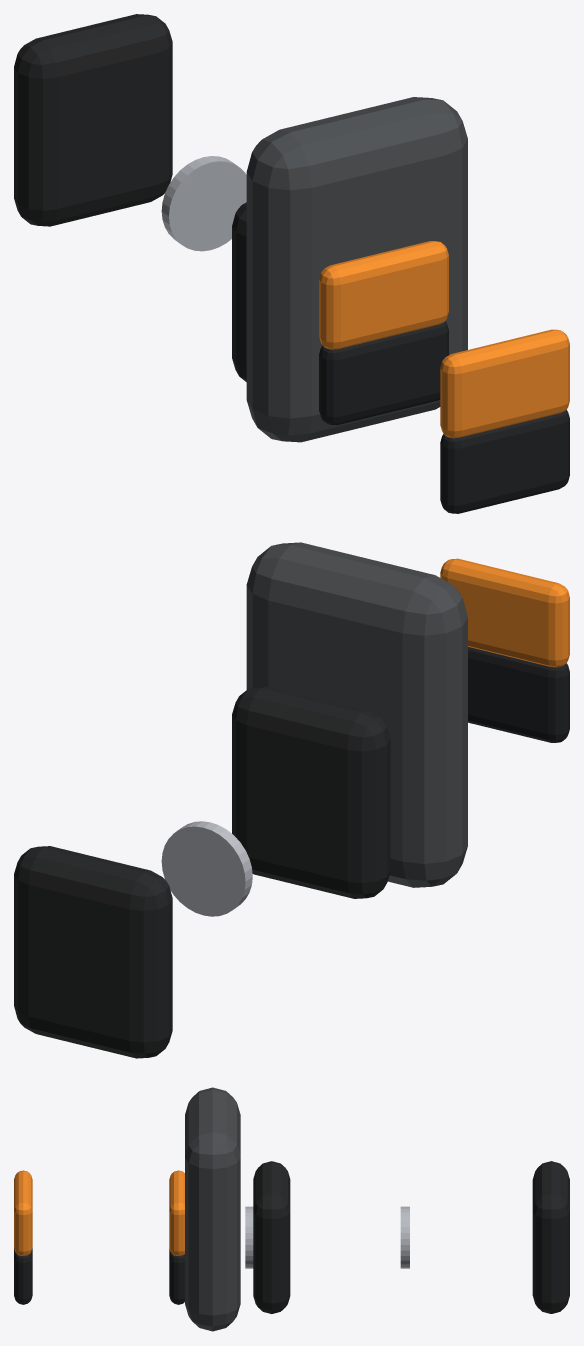
File: zwift-click-v2.glb
The picture shows the model from 3 angles, top to bottom: view 1: azimuth 30°, elevation 25°; view 2: azimuth 150°, elevation 25°; view 3: azimuth 270°, elevation 25°; orthographic projection. The views are drawn at different scales.
Visible parts, largest first — view 1: zwift-click-v2_BODY_EXPLODED, zwift-click-v2_BAR_STRAP_EXPLODED, zwift-click-v2_BODY, zwift-click-v2_UP_BUTTON_EXPLODED, zwift-click-v2_UP_BUTTON, zwift-click-v2_DOWN_BUTTON_EXPLODED, zwift-click-v2_DOWN_BUTTON, zwift-click-v2_CR2032_EXPLODED, zwift-click-v2_BAR_STRAP; view 2: zwift-click-v2_BODY_EXPLODED, zwift-click-v2_BAR_STRAP_EXPLODED, zwift-click-v2_BAR_STRAP, zwift-click-v2_BODY, zwift-click-v2_UP_BUTTON_EXPLODED, zwift-click-v2_DOWN_BUTTON_EXPLODED, zwift-click-v2_CR2032_EXPLODED; view 3: zwift-click-v2_BODY_EXPLODED, zwift-click-v2_BAR_STRAP, zwift-click-v2_BAR_STRAP_EXPLODED, zwift-click-v2_BODY, zwift-click-v2_UP_BUTTON_EXPLODED, zwift-click-v2_UP_BUTTON, zwift-click-v2_DOWN_BUTTON_EXPLODED, zwift-click-v2_DOWN_BUTTON, zwift-click-v2_CR2032_EXPLODED, zwift-click-v2_CR2032.
Boxes of the visible parts, left/top/right/bottom form: zwift-click-v2_BODY_EXPLODED: left=246, top=97, right=467, bottom=329; zwift-click-v2_BAR_STRAP_EXPLODED: left=14, top=14, right=172, bottom=226; zwift-click-v2_BODY: left=246, top=227, right=467, bottom=442; zwift-click-v2_UP_BUTTON_EXPLODED: left=440, top=329, right=569, bottom=438; zwift-click-v2_UP_BUTTON: left=319, top=241, right=448, bottom=349; zwift-click-v2_DOWN_BUTTON_EXPLODED: left=440, top=409, right=569, bottom=513; zwift-click-v2_DOWN_BUTTON: left=319, top=321, right=448, bottom=425; zwift-click-v2_CR2032_EXPLODED: left=161, top=156, right=246, bottom=251; zwift-click-v2_BAR_STRAP: left=232, top=202, right=246, bottom=381; zwift-click-v2_BODY_EXPLODED: left=246, top=542, right=467, bottom=776; zwift-click-v2_BAR_STRAP_EXPLODED: left=14, top=846, right=172, bottom=1058; zwift-click-v2_BAR_STRAP: left=232, top=686, right=390, bottom=898; zwift-click-v2_BODY: left=246, top=674, right=467, bottom=887; zwift-click-v2_UP_BUTTON_EXPLODED: left=440, top=558, right=569, bottom=667; zwift-click-v2_DOWN_BUTTON_EXPLODED: left=468, top=647, right=569, bottom=742; zwift-click-v2_CR2032_EXPLODED: left=161, top=821, right=252, bottom=916; zwift-click-v2_BODY_EXPLODED: left=185, top=1087, right=240, bottom=1258; zwift-click-v2_BAR_STRAP: left=253, top=1161, right=290, bottom=1313; zwift-click-v2_BAR_STRAP_EXPLODED: left=532, top=1161, right=569, bottom=1313; zwift-click-v2_BODY: left=185, top=1214, right=240, bottom=1331; zwift-click-v2_UP_BUTTON_EXPLODED: left=14, top=1170, right=32, bottom=1255; zwift-click-v2_UP_BUTTON: left=169, top=1170, right=184, bottom=1255; zwift-click-v2_DOWN_BUTTON_EXPLODED: left=14, top=1248, right=32, bottom=1304; zwift-click-v2_DOWN_BUTTON: left=169, top=1248, right=184, bottom=1304; zwift-click-v2_CR2032_EXPLODED: left=400, top=1206, right=409, bottom=1268; zwift-click-v2_CR2032: left=245, top=1206, right=253, bottom=1268.
Bounding box in the file's own units: 0.05 × 0.07 × 0.179.
